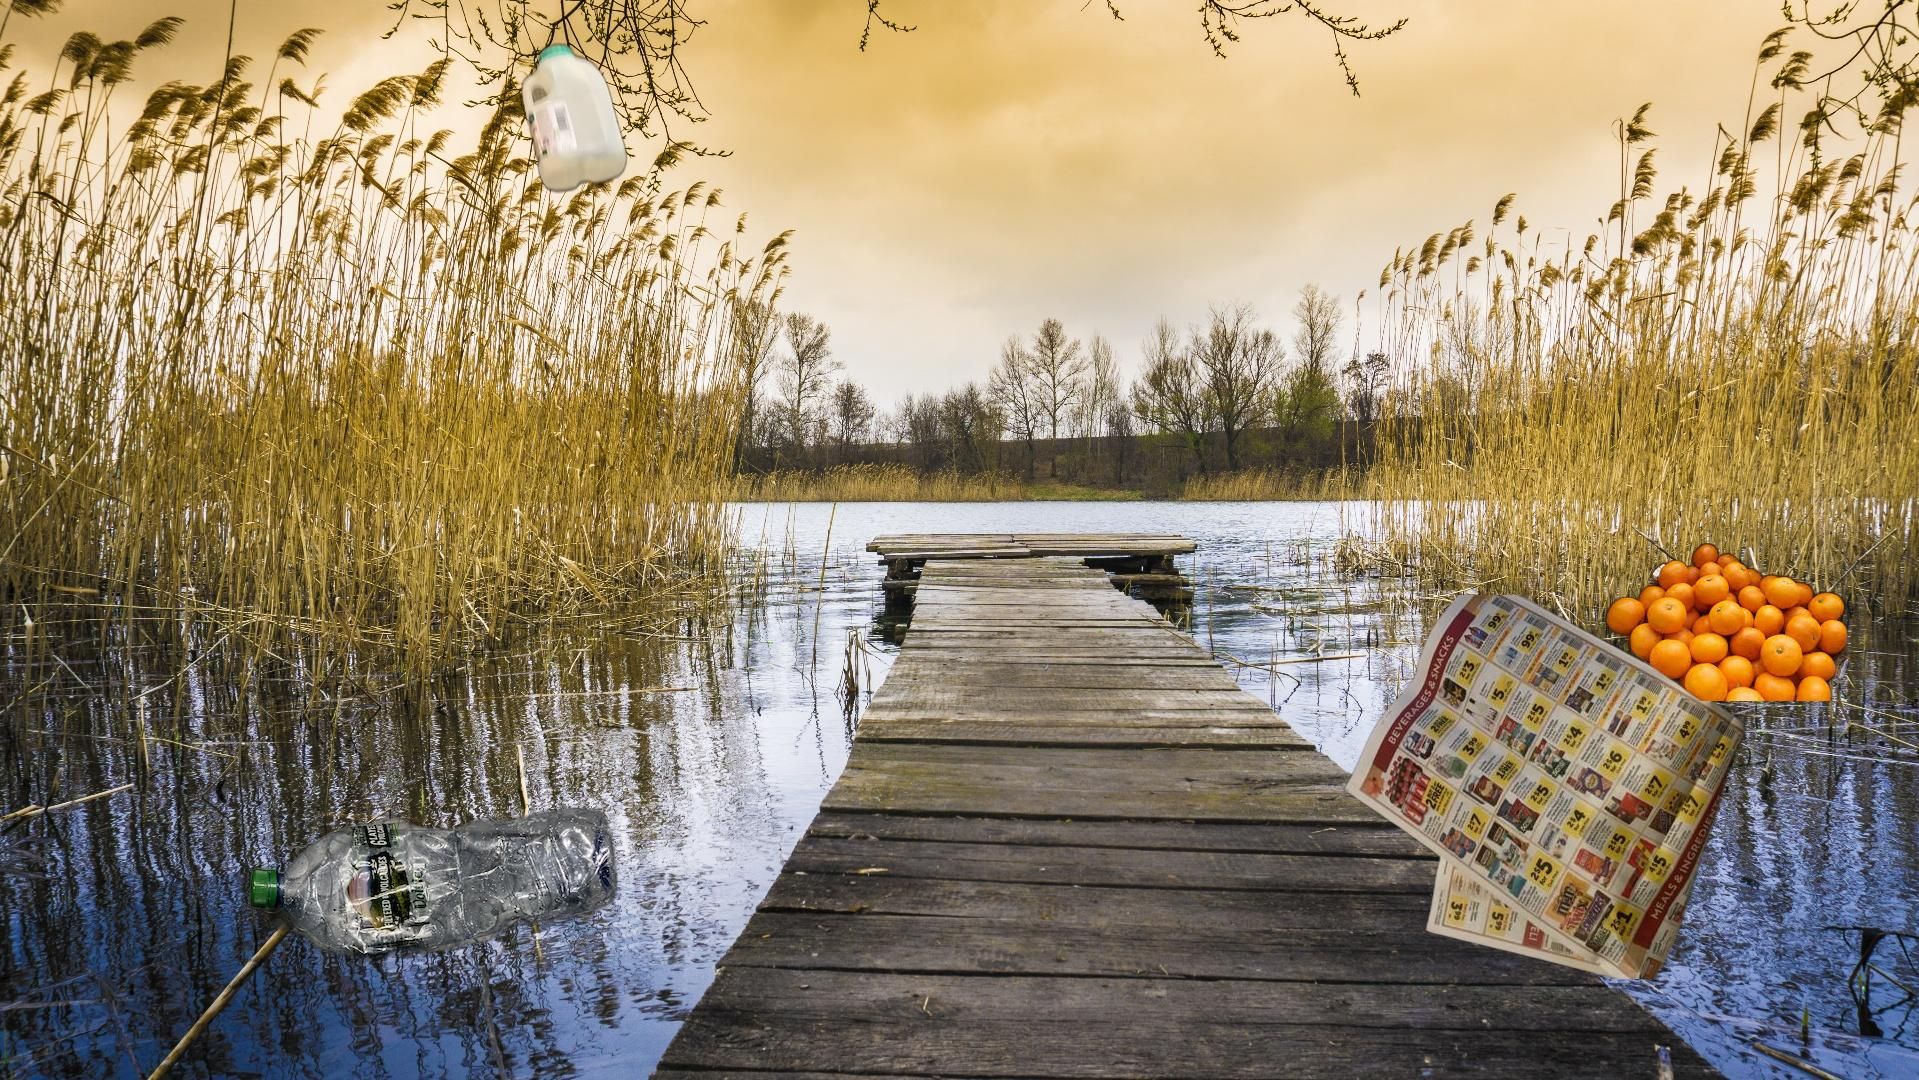biological: (1603, 541, 1854, 702)
paper: (1340, 595, 1750, 978)
plastic-bottles: (245, 802, 622, 984), (518, 37, 630, 198)
